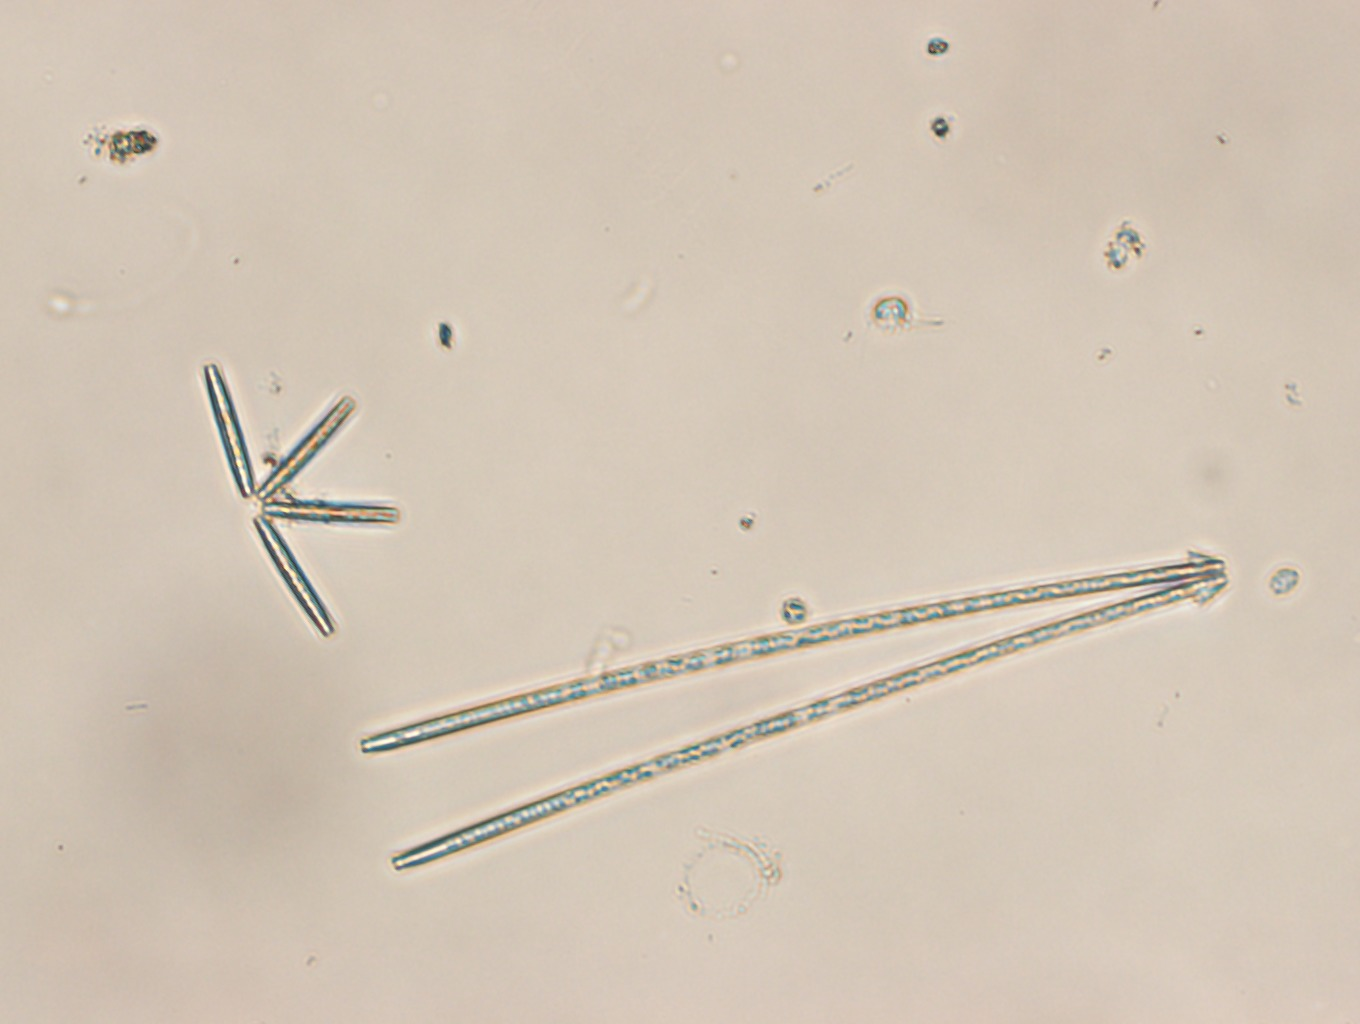thalassionema frauenfeldii: (361, 558, 1230, 874)
thalassionema nitzschioides: (200, 360, 400, 639)
